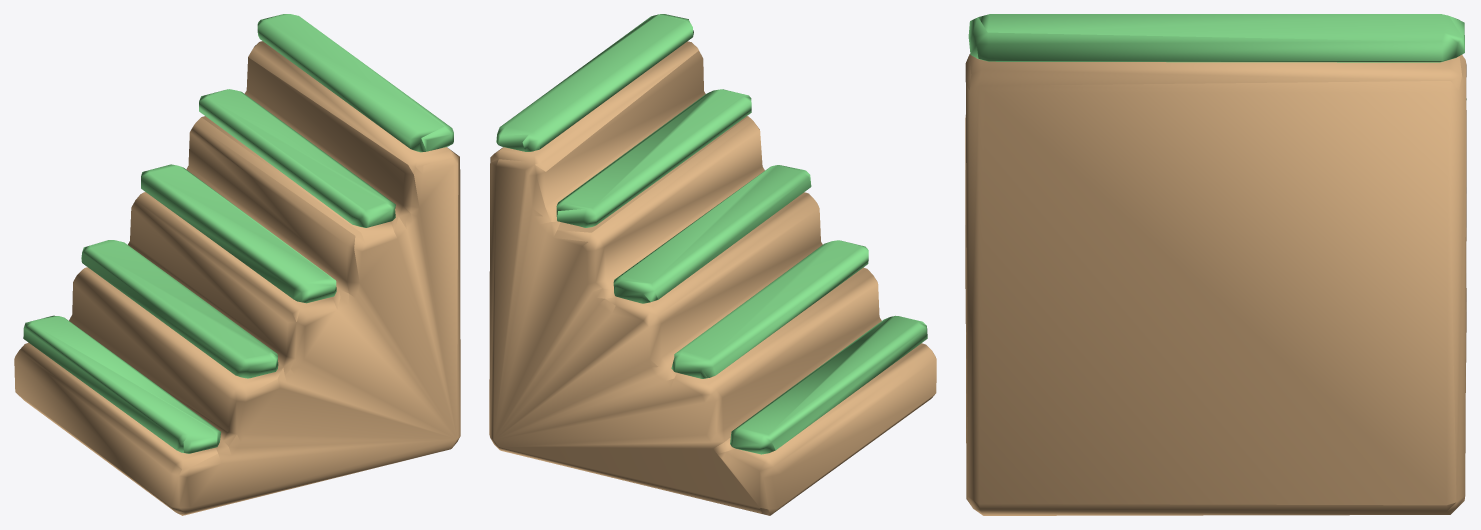
The model's file is Stairs.fbx.
The picture shows the model from 3 angles, left to right: view 1: azimuth 30°, elevation 25°; view 2: azimuth 150°, elevation 25°; view 3: azimuth 270°, elevation 25°; orthographic projection. The views are drawn at different scales.
Visible parts, largest first — view 1: Base_4 1 1, Top_4_complex; view 2: Base_4 1 1, Top_4_complex; view 3: Base_4 1 1, Top_4_complex.
Part boxes in pixels (x1,y1,x2,y2): Base_4 1 1: (14, 41, 460, 515); Top_4_complex: (23, 14, 453, 453); Base_4 1 1: (489, 41, 936, 515); Top_4_complex: (496, 14, 927, 454); Base_4 1 1: (965, 54, 1466, 515); Top_4_complex: (968, 14, 1466, 99).
Bounding box in the file's own units: 99.66 × 106 × 100.
